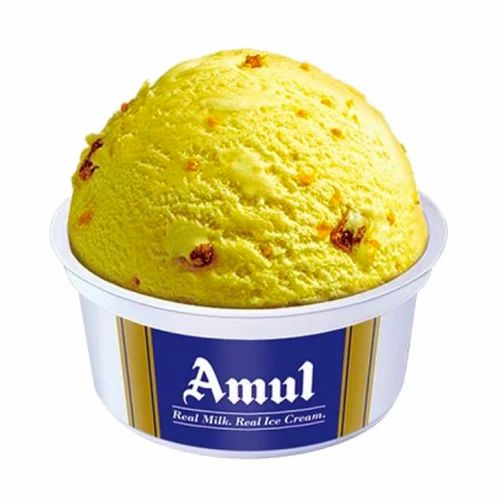Amul: (184, 354, 319, 410)
